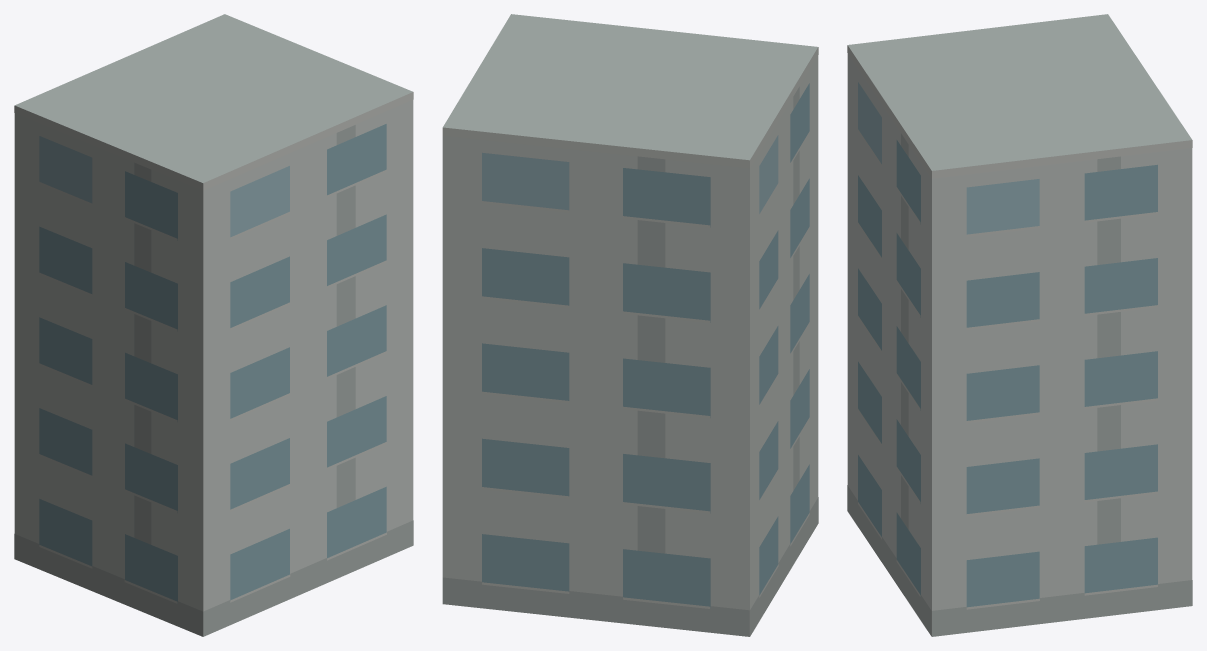
File: survey-upis-32648769.glb
3 views of the same model, side by side, from view 1: azimuth 30°, elevation 25°; view 2: azimuth 150°, elevation 25°; view 3: azimuth 270°, elevation 25° (orthographic). The views are drawn at different scales.
Parts seen in each view (by area): view 1: survey-upis-32648769.tmp; view 2: survey-upis-32648769.tmp; view 3: survey-upis-32648769.tmp.
Part boxes in pixels (x1,y1,x2,y2): survey-upis-32648769.tmp: (14, 14, 413, 636); survey-upis-32648769.tmp: (442, 14, 818, 636); survey-upis-32648769.tmp: (847, 14, 1192, 636).
Size of the model in its own units: 10.34 by 14.3 by 9.61.
